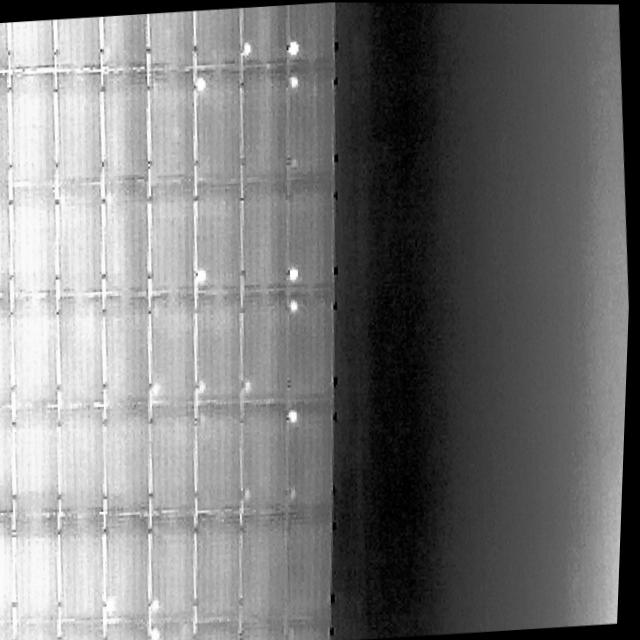Hotspots: (188, 68, 211, 97), (285, 66, 303, 92), (193, 261, 210, 287), (285, 258, 304, 281), (105, 591, 122, 616), (285, 290, 302, 315), (285, 34, 302, 59), (288, 476, 306, 499), (240, 371, 257, 395), (151, 592, 166, 615), (149, 375, 164, 398), (239, 35, 254, 58), (287, 401, 301, 424), (150, 623, 167, 640), (199, 374, 211, 394), (247, 480, 258, 501)
PV-modules: (280, 280, 343, 418), (140, 280, 206, 405), (231, 170, 297, 292), (232, 59, 298, 180), (142, 56, 201, 189), (141, 174, 203, 300), (99, 172, 161, 297), (280, 505, 344, 625), (234, 281, 294, 409), (146, 395, 208, 518), (282, 56, 342, 181), (104, 512, 162, 640), (146, 510, 207, 630), (280, 399, 343, 515), (192, 505, 251, 628), (280, 172, 340, 291), (12, 397, 67, 526), (187, 64, 244, 188), (241, 394, 299, 514), (54, 173, 111, 295), (191, 396, 250, 512), (239, 506, 296, 626), (53, 397, 110, 516), (100, 286, 155, 409), (48, 69, 107, 183), (13, 288, 68, 408), (99, 61, 156, 176), (11, 177, 67, 294), (52, 289, 107, 408), (6, 72, 62, 187), (191, 287, 246, 404), (11, 519, 69, 628), (103, 398, 158, 511), (54, 513, 111, 622), (190, 179, 245, 290), (283, 2, 338, 71), (148, 9, 202, 72), (192, 6, 246, 69), (240, 3, 292, 66), (0, 399, 25, 522), (102, 12, 152, 70), (8, 18, 61, 71), (52, 15, 102, 71), (0, 290, 23, 407), (0, 523, 21, 629), (0, 74, 16, 188), (0, 179, 16, 292), (287, 615, 340, 640), (241, 615, 292, 640), (151, 616, 203, 640), (14, 617, 67, 640), (62, 614, 108, 640), (109, 617, 157, 640), (195, 618, 242, 640), (0, 21, 12, 73), (1, 620, 23, 640)
